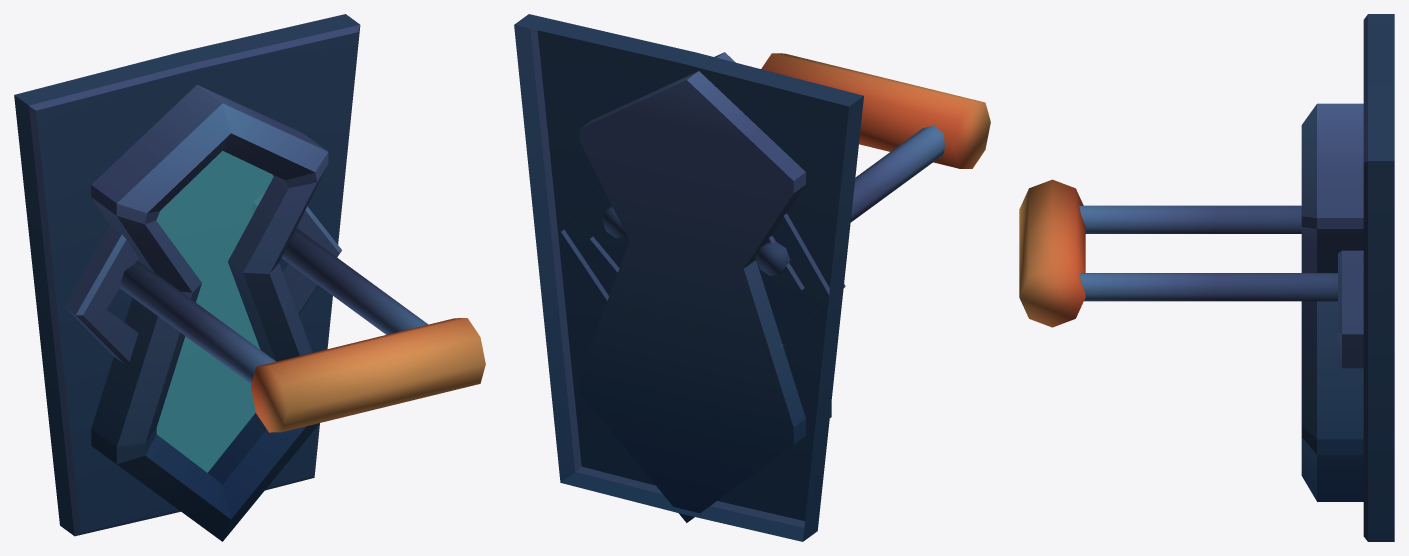
File: lever.fbx
3 renders of one model, left to right at view 1: azimuth 30°, elevation 25°; view 2: azimuth 150°, elevation 25°; view 3: azimuth 270°, elevation 25°, orthographic. The views are drawn at different scales.
Parts seen in each view (by area): view 1: leverbase, lever; view 2: leverbase, lever; view 3: leverbase, lever.
Part boxes in pixels (x1=…): leverbase: x1=14, y1=14, x2=360, y2=541; lever: x1=120, y1=228, x2=485, y2=432; leverbase: x1=514, y1=14, x2=863, y2=541; lever: x1=602, y1=53, x2=990, y2=275; leverbase: x1=1301, y1=14, x2=1394, y2=541; lever: x1=1019, y1=179, x2=1337, y2=327.
Bounding box in the file's own units: 0.3117 × 0.4119 × 0.3364.
2 materials, 2 textured.
